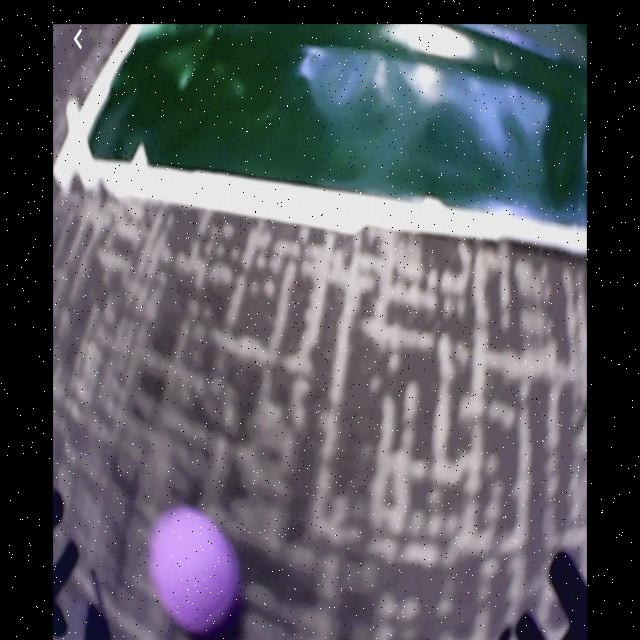ball: (153, 510, 238, 634)
